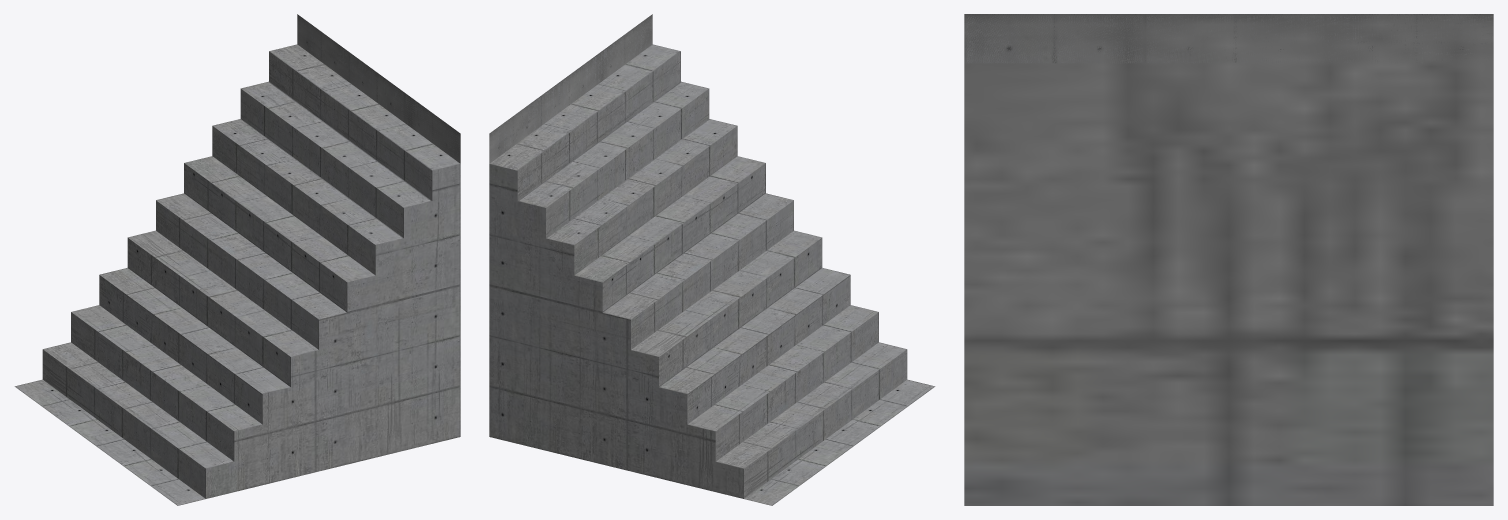
The model's file is Stair.fbx.
3 views of the same model, side by side, from view 1: azimuth 30°, elevation 25°; view 2: azimuth 150°, elevation 25°; view 3: azimuth 270°, elevation 25° (orthographic). The views are drawn at different scales.
Visible parts, largest first — view 1: Cube.002; view 2: Cube.002; view 3: Cube.002.
Part boxes in pixels (box(x1,y1,x2,y2)): Cube.002: box(14, 14, 460, 505); Cube.002: box(489, 14, 935, 505); Cube.002: box(964, 14, 1493, 505).
Size of the model in its own units: 200 by 205 by 200.
